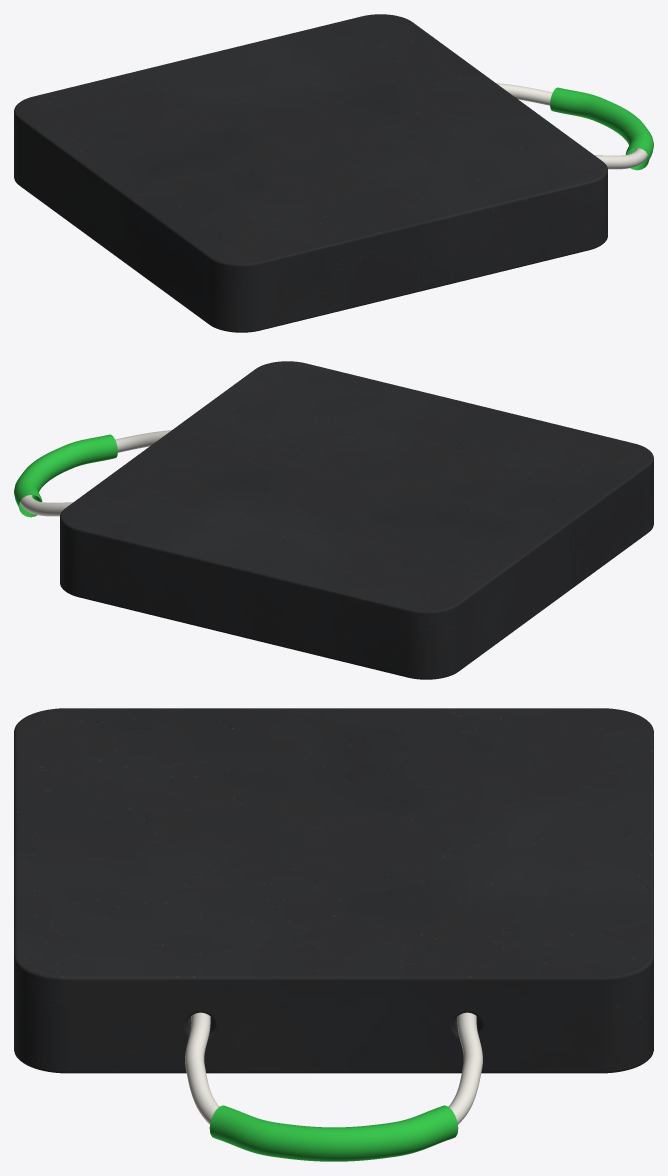
3 renders of one model, top to bottom at view 1: azimuth 30°, elevation 25°; view 2: azimuth 150°, elevation 25°; view 3: azimuth 270°, elevation 25°, orthographic. The views are drawn at different scales.
Parts seen in each view (by area): view 1: plate, sleeve, rope; view 2: plate, sleeve, rope; view 3: plate, sleeve, rope.
Part boxes in pixels (x1,y1,x2,y2): plate: (14, 14, 607, 332); sleeve: (550, 87, 653, 170); rope: (496, 83, 647, 169); plate: (60, 361, 653, 679); sleeve: (14, 434, 117, 517); rope: (20, 430, 171, 516); plate: (14, 708, 653, 1073); sleeve: (209, 1105, 458, 1161); rope: (185, 1012, 482, 1124).
Bounding box in the file's own units: 0.4038 × 0.0536 × 0.3048.
3 materials, 1 textured.
